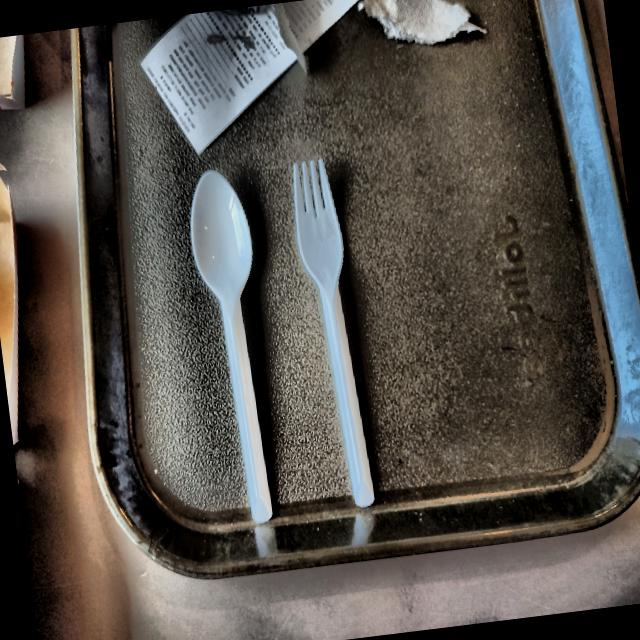plastic utensil: (190, 170, 272, 522), (293, 159, 374, 507)
